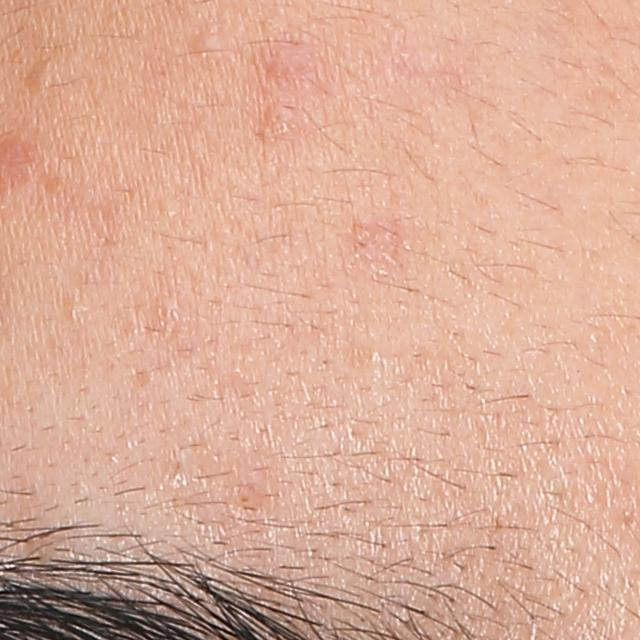comedo: (191, 27, 238, 66), (23, 57, 68, 93)
